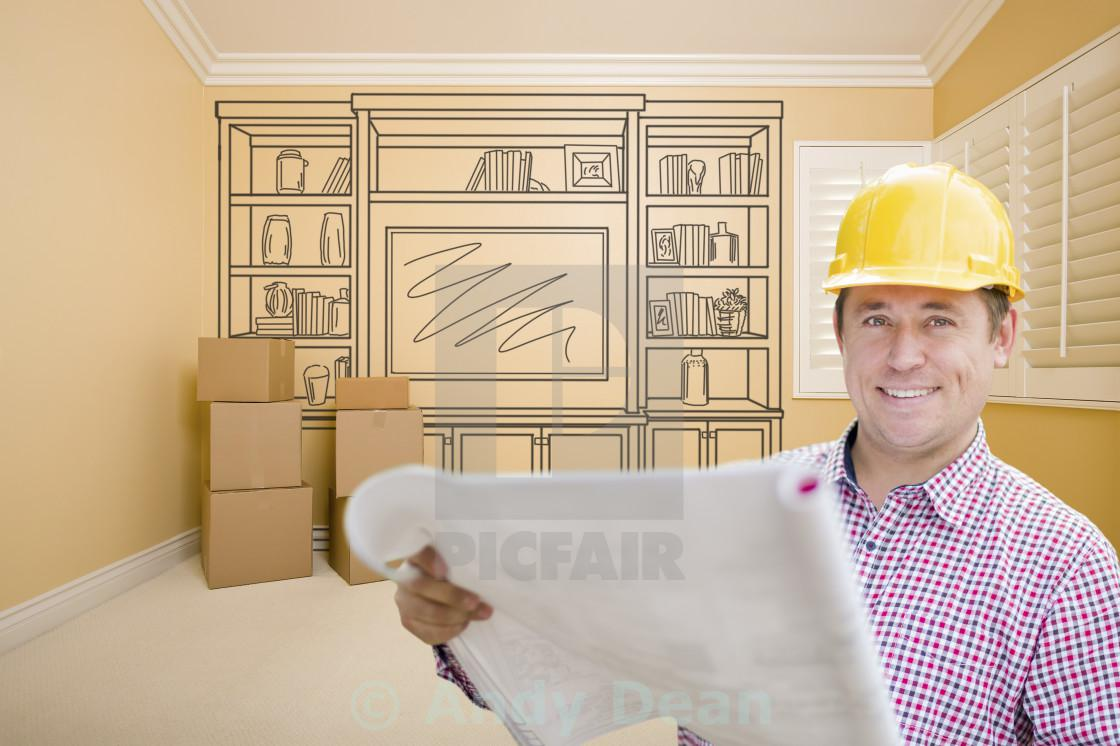hardhat: (826, 160, 1033, 299)
